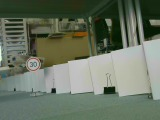speed_30: (25, 56, 41, 72)
